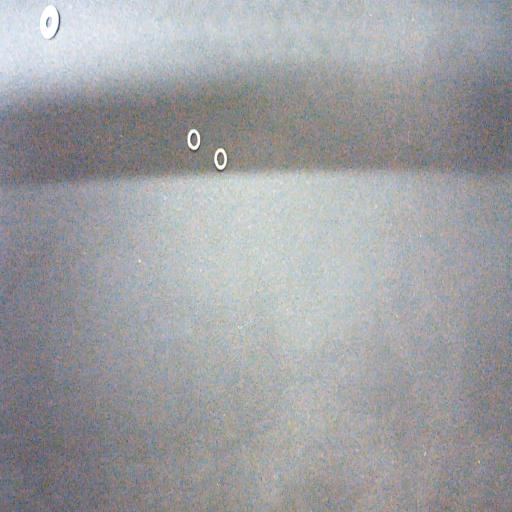washer: (39, 4, 60, 40), (187, 127, 201, 151), (214, 147, 227, 171)
